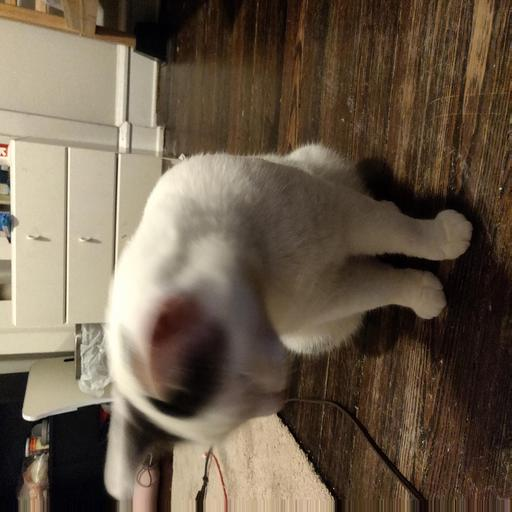cat: (104, 149, 453, 498)
